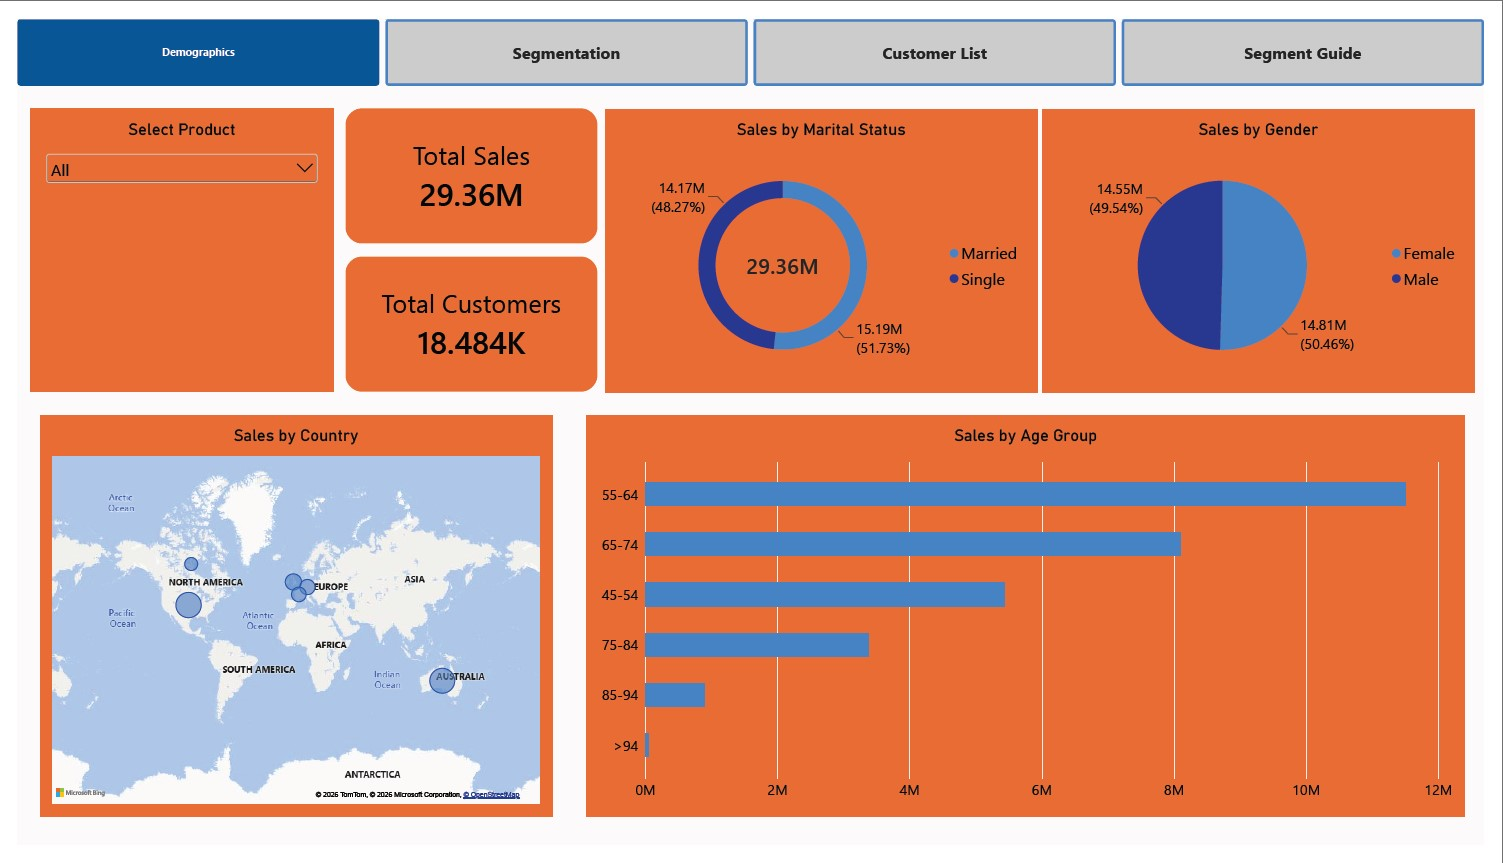

This screenshot's page, from the dashboard's own definition file:
{"tool":"powerbi","page":{"name":"Demographics","canvas":[1920,1080],"ordinal":0},"visuals":[{"type":"cardVisual","fields":{"Data":["Sum(FactInternetSales.SalesAmount)"]},"box":[429.9,117.3,329.1,176.4],"z":0},{"type":"cardVisual","fields":{"Data":["Count(FactInternetSales.CustomerKey)"]},"box":[429.9,310.9,329.1,176.4],"z":1000},{"type":"pieChart","title":"Sales by Gender","fields":{"Category":["DimCustomer.Gender"],"Y":["Sum(FactInternetSales.SalesAmount)"]},"box":[1342.1,117.5,565,370],"z":2000},{"type":"donutChart","title":"Sales by Marital Status","fields":{"Category":["DimCustomer.MaritalStatus"],"Y":["Sum(FactInternetSales.SalesAmount)"]},"box":[769.6,117.5,565,370],"z":3000},{"type":"clusteredBarChart","title":"Sales by Age Group","fields":{"Y":["Sum(FactInternetSales.SalesAmount)"],"Category":["DimCustomer.Age Band"]},"box":[745,517.5,1150,525],"z":4000},{"type":"map","title":"Sales by Country","fields":{"Category":["DimGeography.Country"],"Size":["Sum(FactInternetSales.SalesAmount)"]},"box":[30,517.5,670,525],"z":5000},{"type":"slicer","title":"Select Product","fields":{"Values":["DimProduct.ProductName"]},"box":[17.1,117.3,397.3,370],"z":6000},{"type":"pageNavigator","box":[0,0,1920,87.5],"z":7000}]}

Visuals, with their boxes in screenshot pixels (x1, y1, x2, y2), scaled from the page's 1920x1080 canvas onto the 1503x863 screenshot:
cardVisual - Sum(FactInternetSales.SalesAmount): <region>337, 94, 594, 235</region>
cardVisual - Count(FactInternetSales.CustomerKey): <region>337, 248, 594, 389</region>
"Sales by Gender" pieChart: <region>1051, 94, 1493, 390</region>
"Sales by Marital Status" donutChart: <region>602, 94, 1045, 390</region>
"Sales by Age Group" clusteredBarChart: <region>583, 414, 1483, 833</region>
"Sales by Country" map: <region>23, 414, 548, 833</region>
"Select Product" slicer: <region>13, 94, 324, 389</region>
pageNavigator: <region>0, 0, 1502, 70</region>
